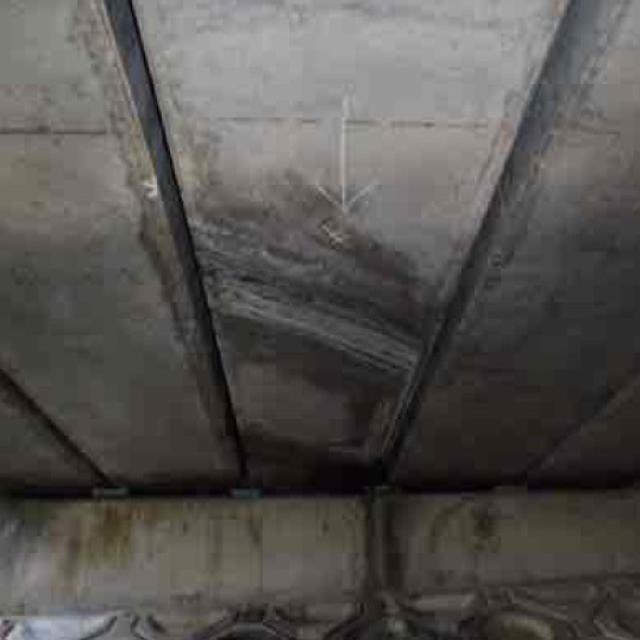freelime: (194, 237, 433, 382)
